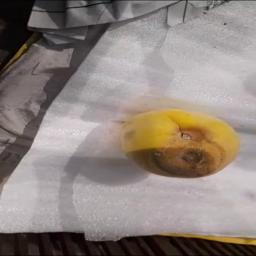Peach Rotten: (115, 95, 244, 190)
